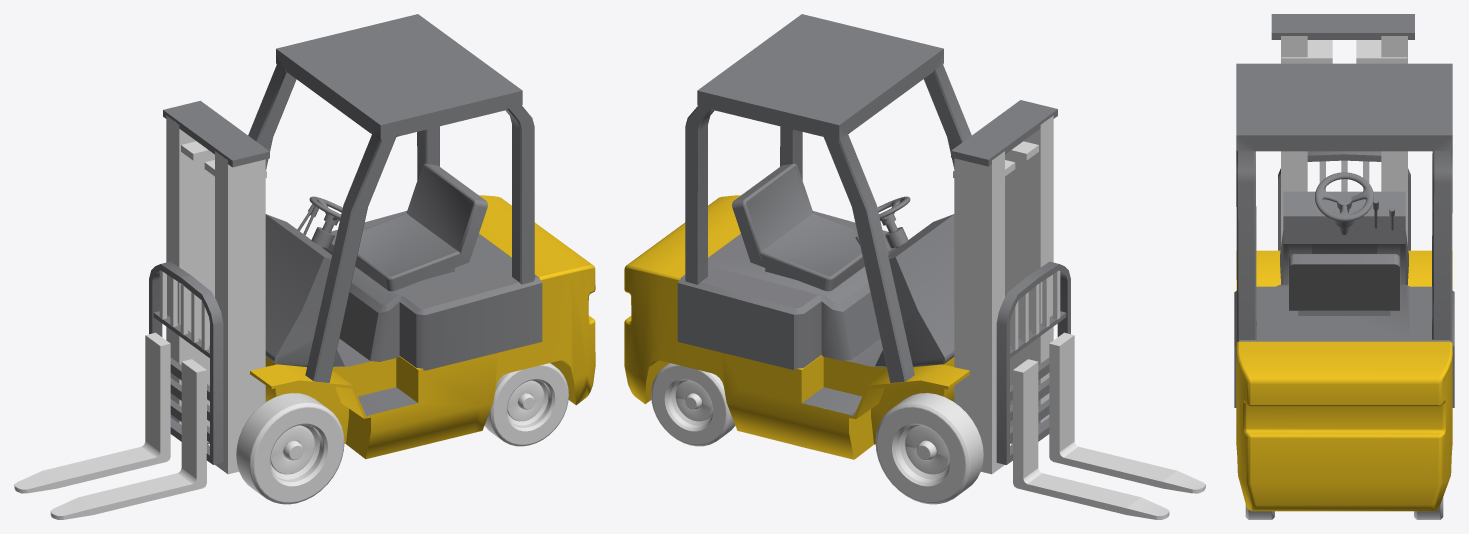
File: forklift.glb
3 renders of one model, left to right at view 1: azimuth 30°, elevation 25°; view 2: azimuth 150°, elevation 25°; view 3: azimuth 270°, elevation 25°, orthographic. The views are drawn at different scales.
Parts seen in each view (by area): view 1: Cube_1.001; view 2: Cube_1.001; view 3: Cube_1.001.
Part boxes in pixels (x1,y1,x2,y2): Cube_1.001: (14, 14, 595, 519); Cube_1.001: (624, 14, 1205, 519); Cube_1.001: (1234, 14, 1454, 519).
Size of the model in its own units: 3.82 by 2.57 by 1.37.
